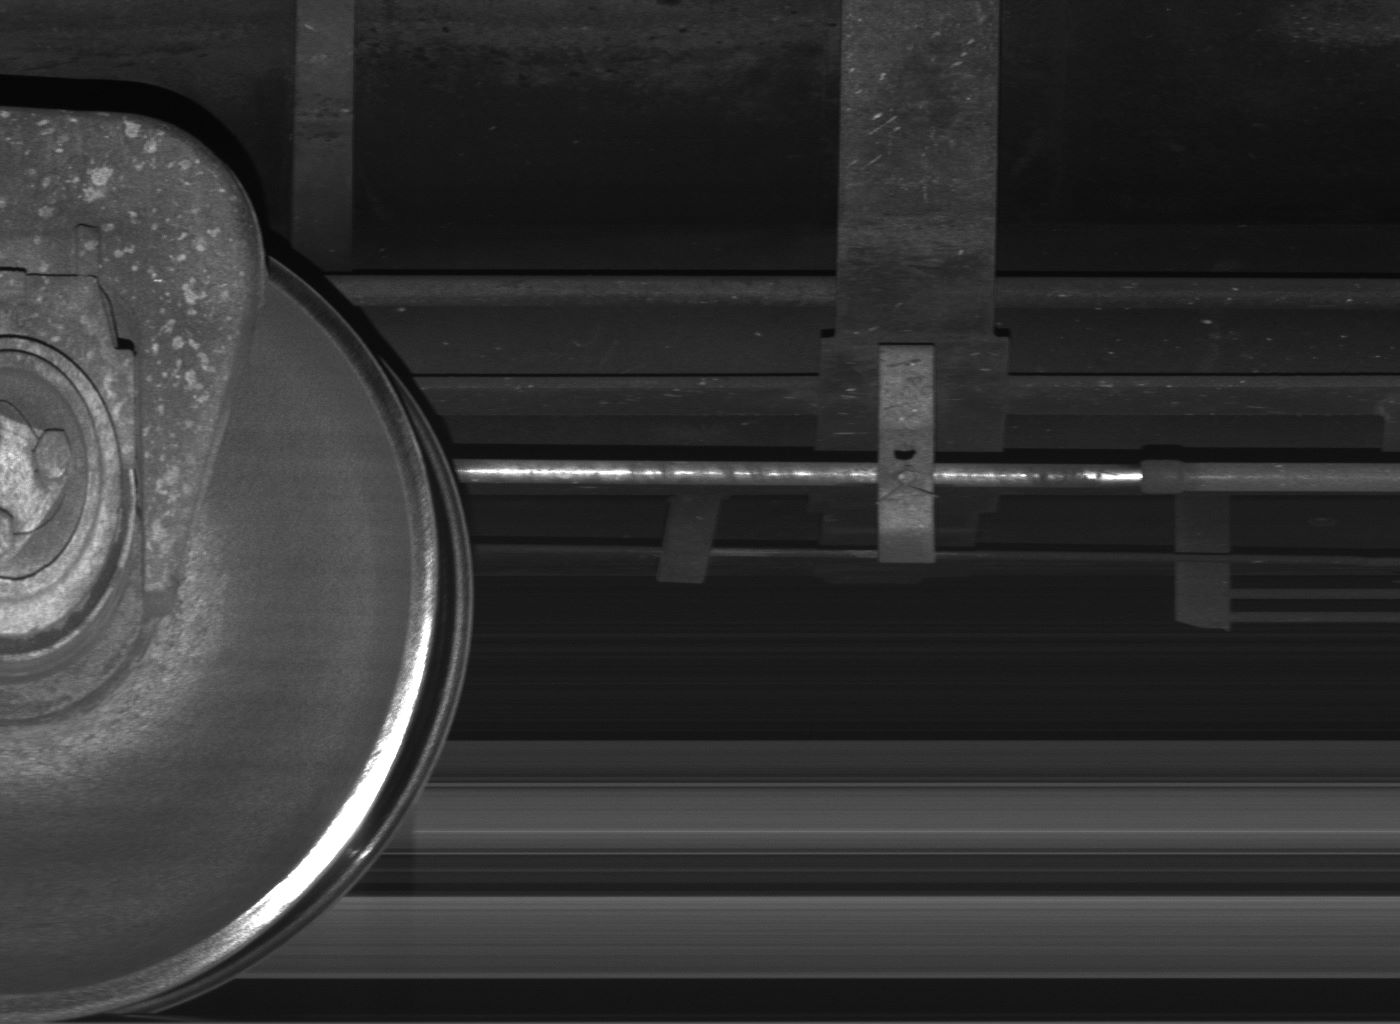Upper lever: (1175, 509, 1236, 632)
normal: (879, 346, 934, 565), (660, 500, 722, 584)
